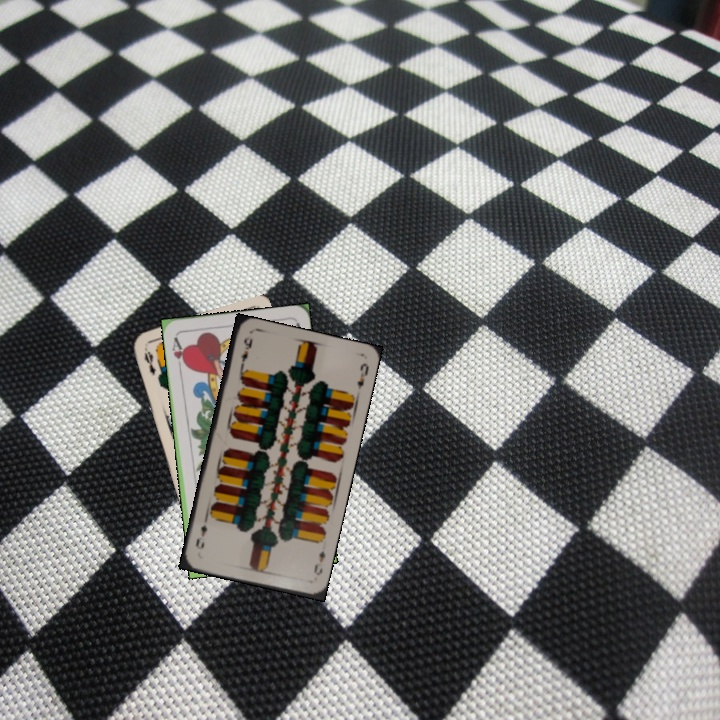E9: (236, 332, 255, 372), (310, 547, 328, 578)
EO: (140, 343, 159, 378)
HA: (168, 333, 189, 373)
